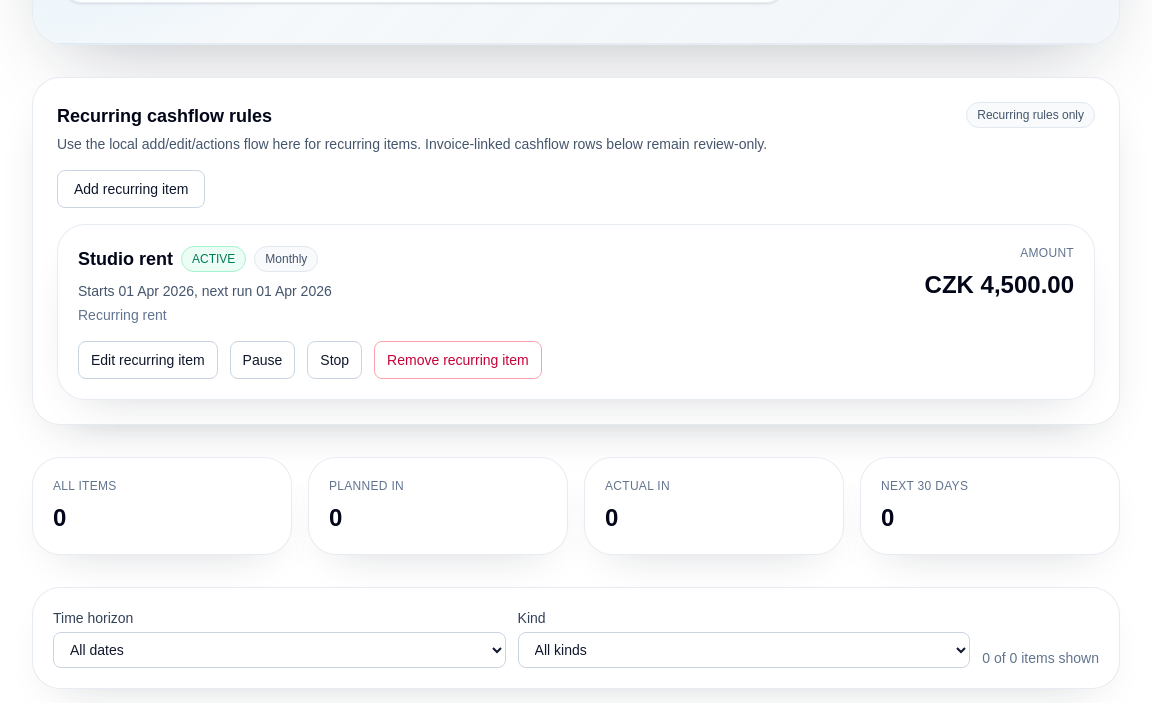
Test case: cashflow workspace v1 › shows a conflict-specific retry message when recurring rule remove is out of date
(page scrolled)
expect the heading "Studio rent" is shown: met, box [78, 245, 173, 273]
Click the button "Remove recurring item".
click(458, 360)  # box [374, 341, 542, 379]
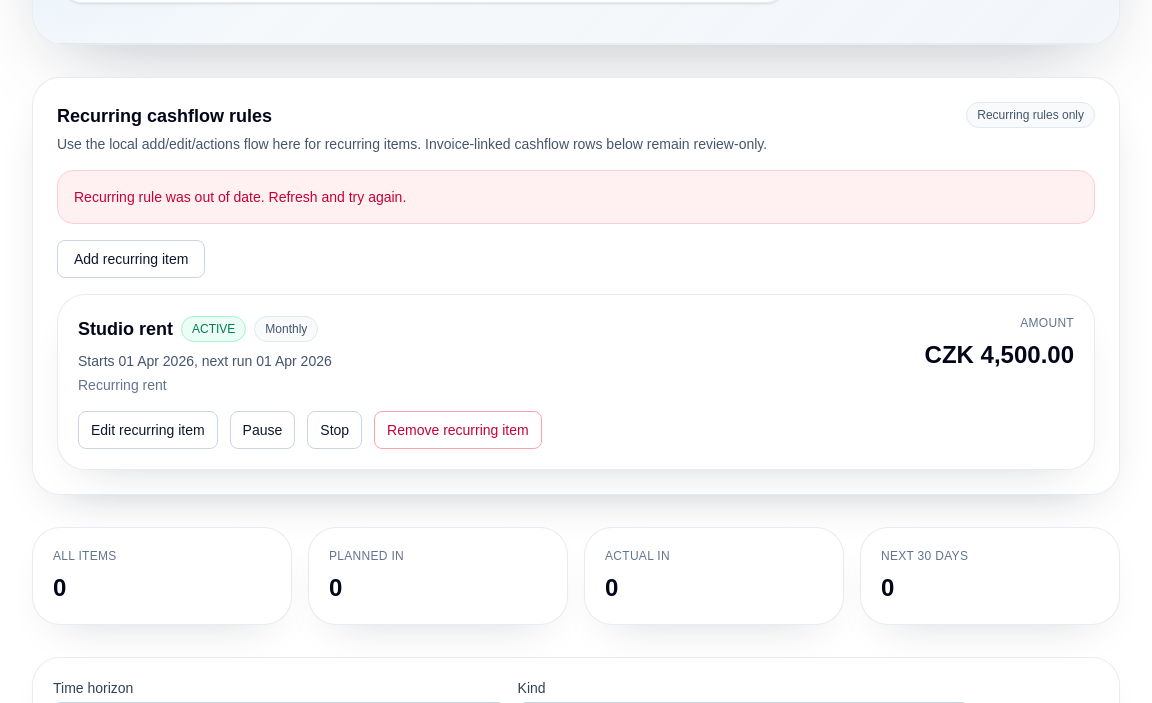
expect the text "Recurring rule was out of date. Refresh and try again." is shown: met, box [57, 170, 1095, 224]
